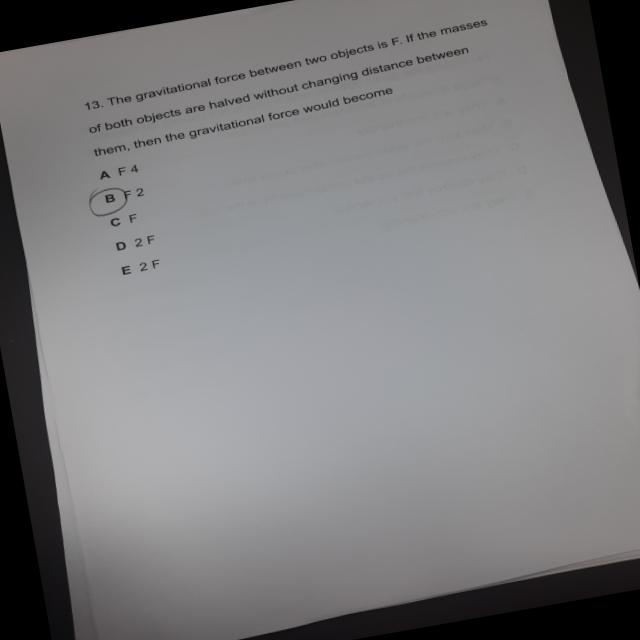B: (85, 184, 134, 220)
